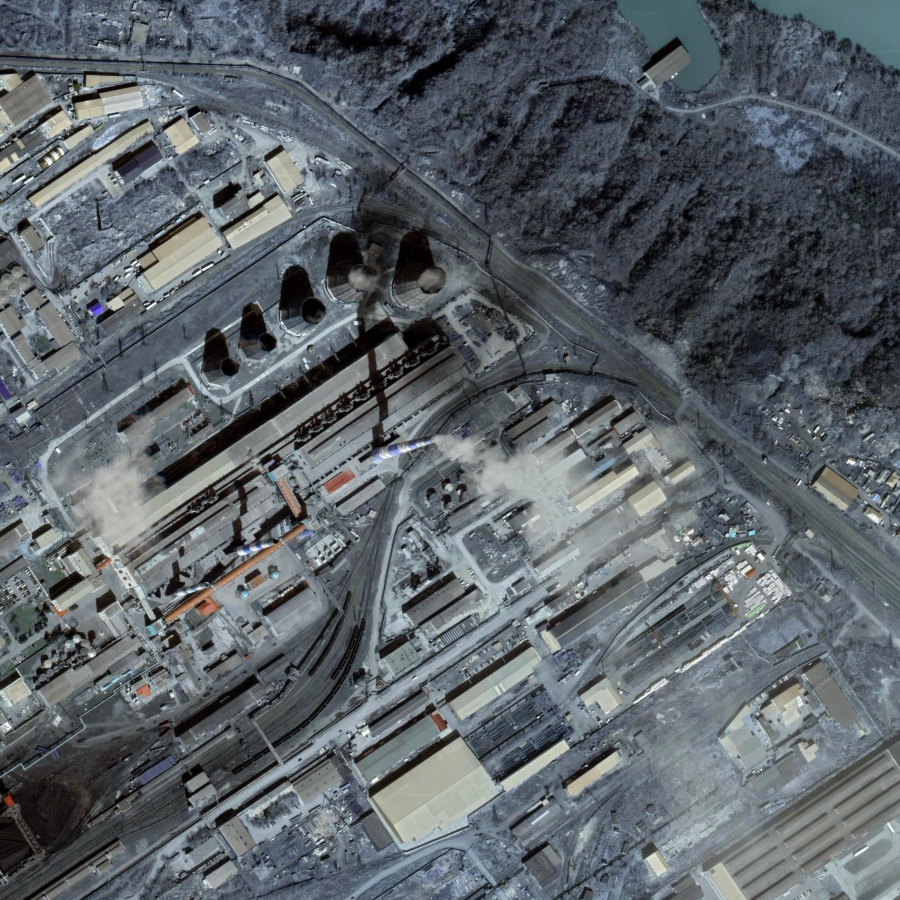PowerPlant: (103, 208, 550, 578)
